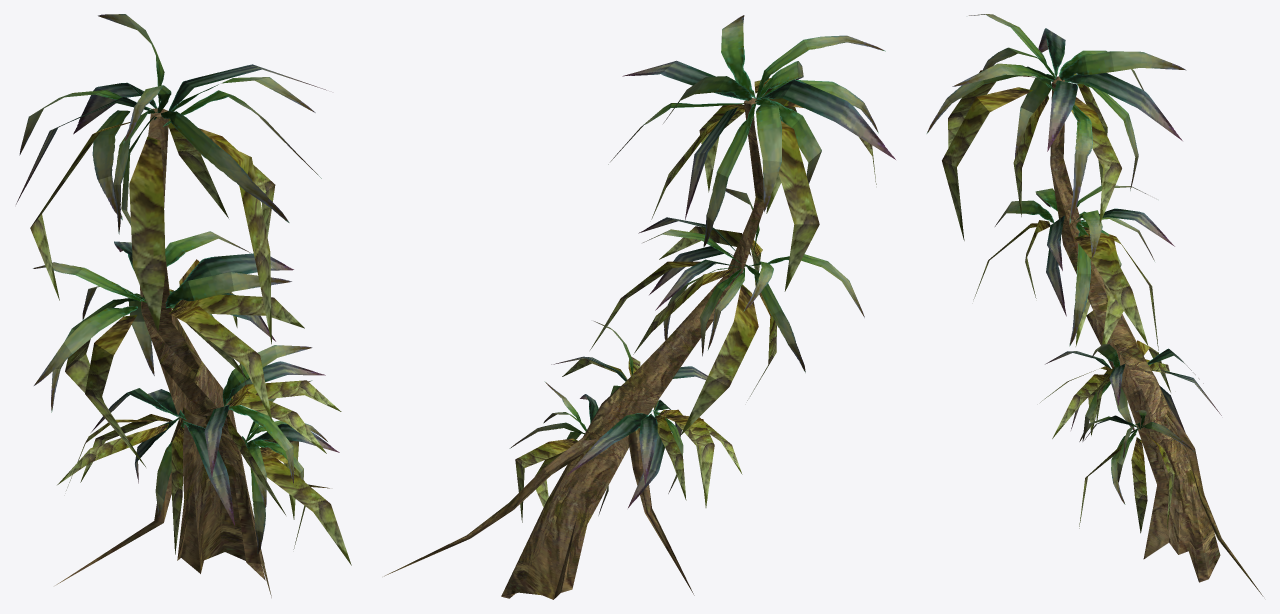
Rendered from S_Tree_Green056_1.FBX.
3 renders of one model, left to right at view 1: azimuth 30°, elevation 25°; view 2: azimuth 150°, elevation 25°; view 3: azimuth 270°, elevation 25°, orthographic. The views are drawn at different scales.
Visible parts, largest first — view 1: S_Tree_Green056_1; view 2: S_Tree_Green056_1; view 3: S_Tree_Green056_1.
Part boxes in pixels (x1,y1,x2,y2): S_Tree_Green056_1: (16,14,351,597); S_Tree_Green056_1: (384,15,895,599); S_Tree_Green056_1: (926,14,1263,596).
Bounding box in the file's own units: 416 × 352 × 542.
